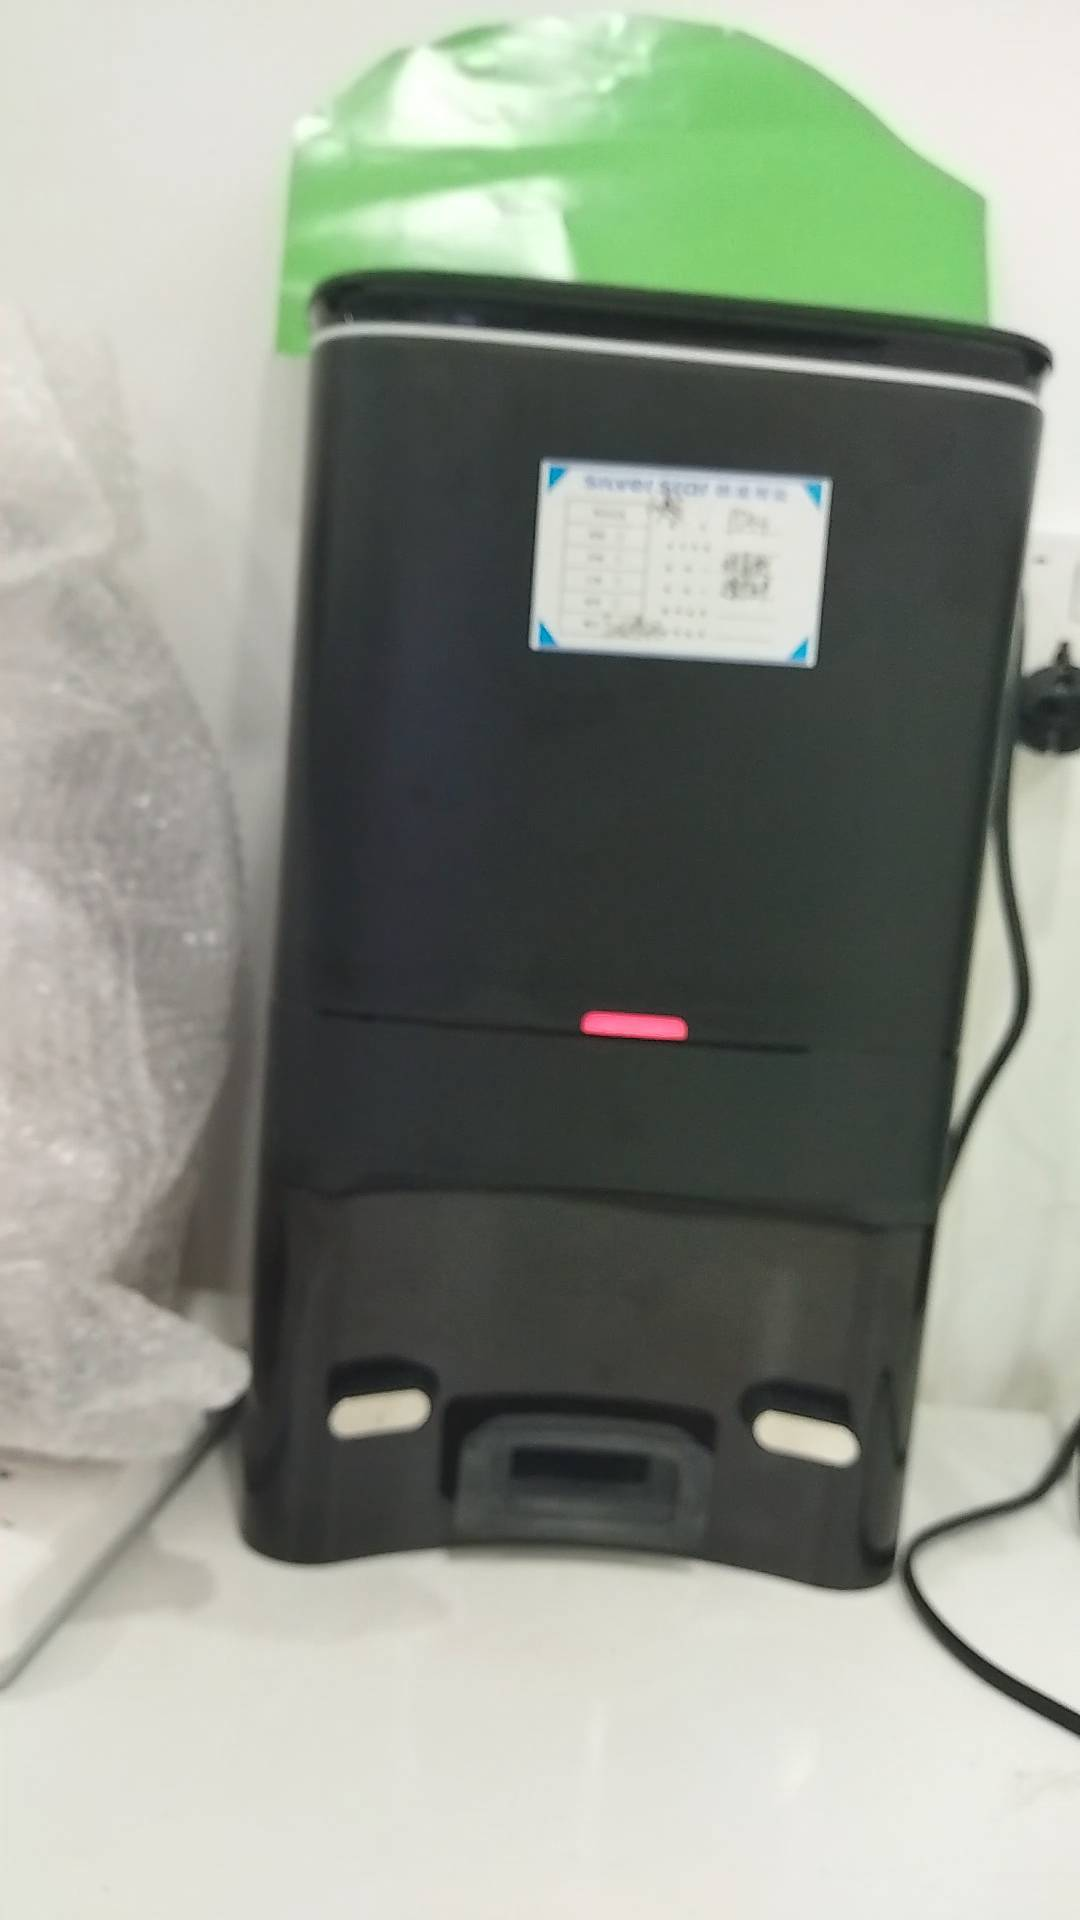dust collecting barrel: (244, 269, 1059, 1593)
